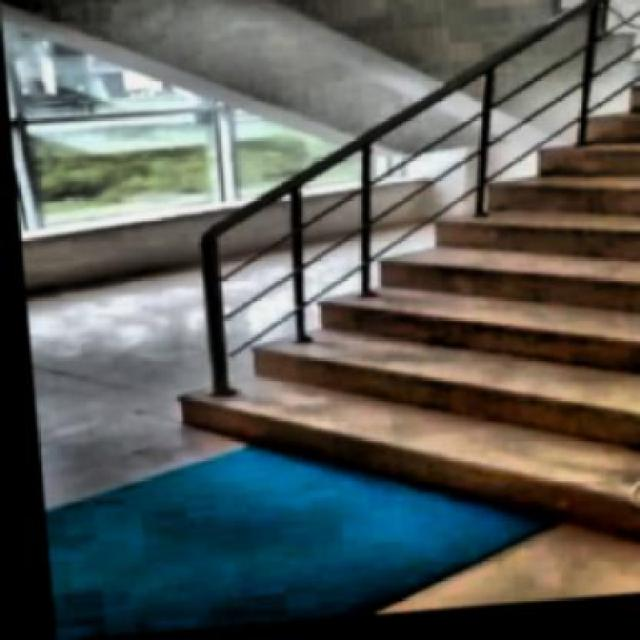stair: (134, 92, 638, 610)
